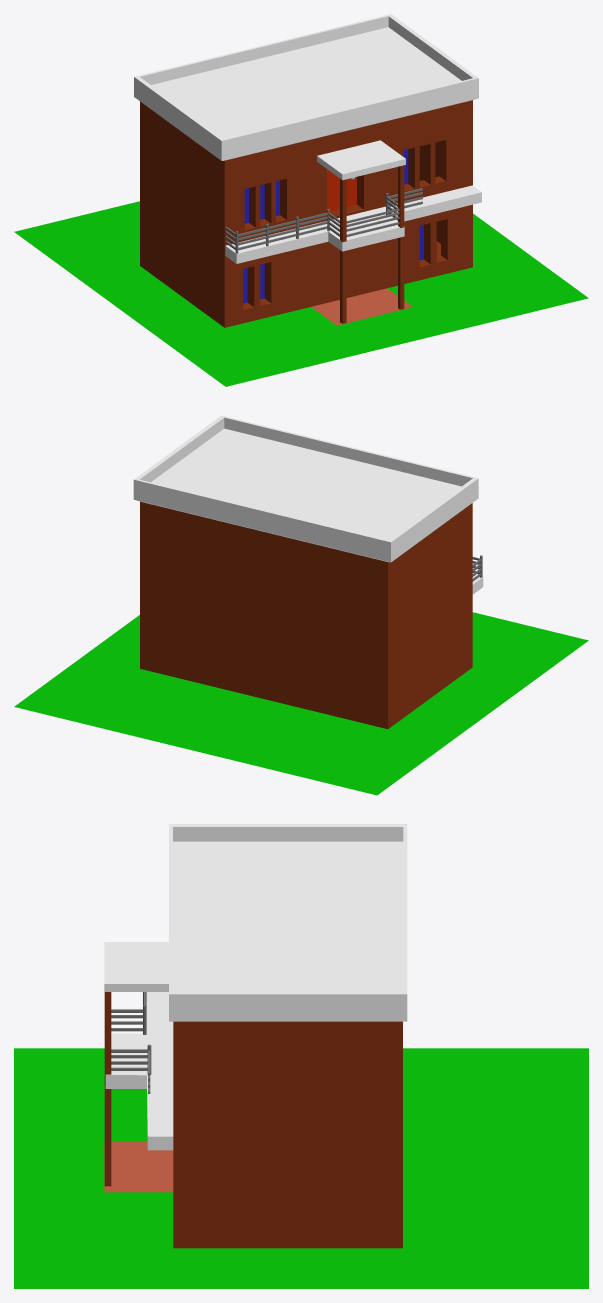
The model's file is house2_red.obj.
3 views of the same model, one above another, from view 1: azimuth 30°, elevation 25°; view 2: azimuth 150°, elevation 25°; view 3: azimuth 270°, elevation 25° (orthographic). The views are drawn at different scales.
Visible parts, largest first — view 1: Cube.166_Cube.256, Plane.033_Plane.034, Cube.104_Cube.195, Cube.154_Cube.244, Cube.102_Cube.193, Cube.165_Cube.255, Cube.100_Cube.191, Cube.101_Cube.192; view 2: Cube.166_Cube.256, Plane.033_Plane.034; view 3: Cube.166_Cube.256, Plane.033_Plane.034, Cube.104_Cube.195, Cube.154_Cube.244, Cube.101_Cube.192, Cube.102_Cube.193.
Boxes of the visible parts, bbox=[...] form: Cube.166_Cube.256: bbox=[134, 14, 478, 327]; Plane.033_Plane.034: bbox=[14, 201, 588, 386]; Cube.104_Cube.195: bbox=[225, 185, 481, 263]; Cube.154_Cube.244: bbox=[311, 288, 412, 325]; Cube.102_Cube.193: bbox=[340, 165, 404, 242]; Cube.165_Cube.255: bbox=[327, 169, 356, 211]; Cube.100_Cube.191: bbox=[340, 250, 346, 323]; Cube.101_Cube.192: bbox=[398, 236, 404, 309]; Cube.166_Cube.256: bbox=[133, 415, 478, 729]; Plane.033_Plane.034: bbox=[14, 612, 588, 795]; Cube.166_Cube.256: bbox=[104, 824, 407, 1248]; Plane.033_Plane.034: bbox=[14, 1048, 588, 1288]; Cube.104_Cube.195: bbox=[105, 992, 173, 1150]; Cube.154_Cube.244: bbox=[104, 1142, 173, 1192]; Cube.101_Cube.192: bbox=[104, 1086, 111, 1186]; Cube.102_Cube.193: bbox=[104, 992, 111, 1075].
Size of the model in its own units: 21.52 by 10.82 by 21.73.
